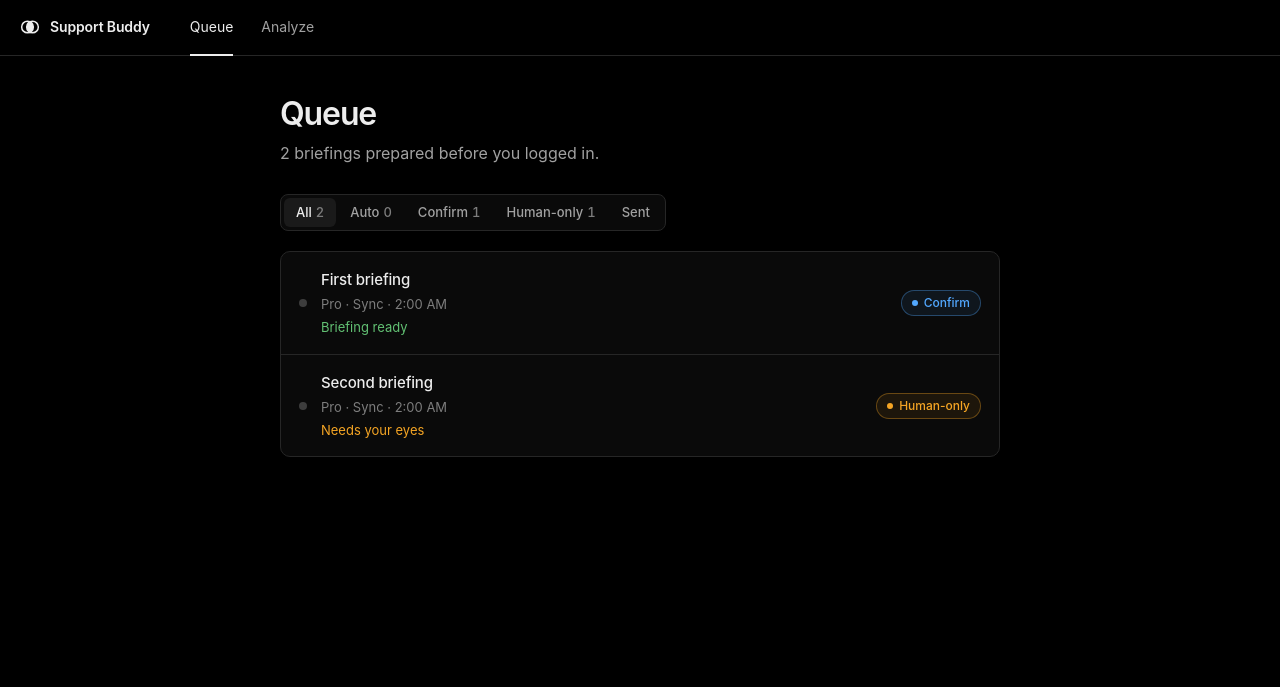
Test: App › opens a briefing and returns to the queue
Click the button with aria-label "open briefing: second briefing" at coordinates (377, 382), box [281, 355, 999, 456]
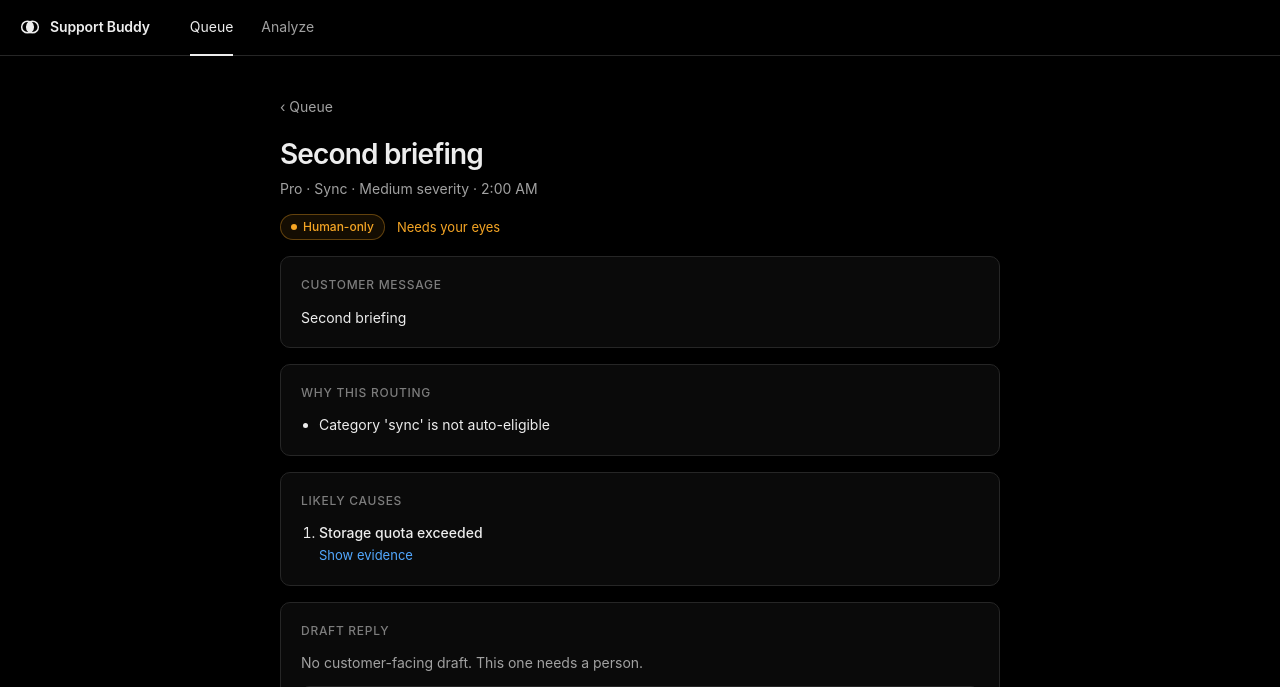
Expected: the text "No customer-facing draft. This one needs a person." is shown, [301, 654, 643, 671]
Click the button "‹ Queue" at coordinates (306, 107), box [280, 96, 333, 118]
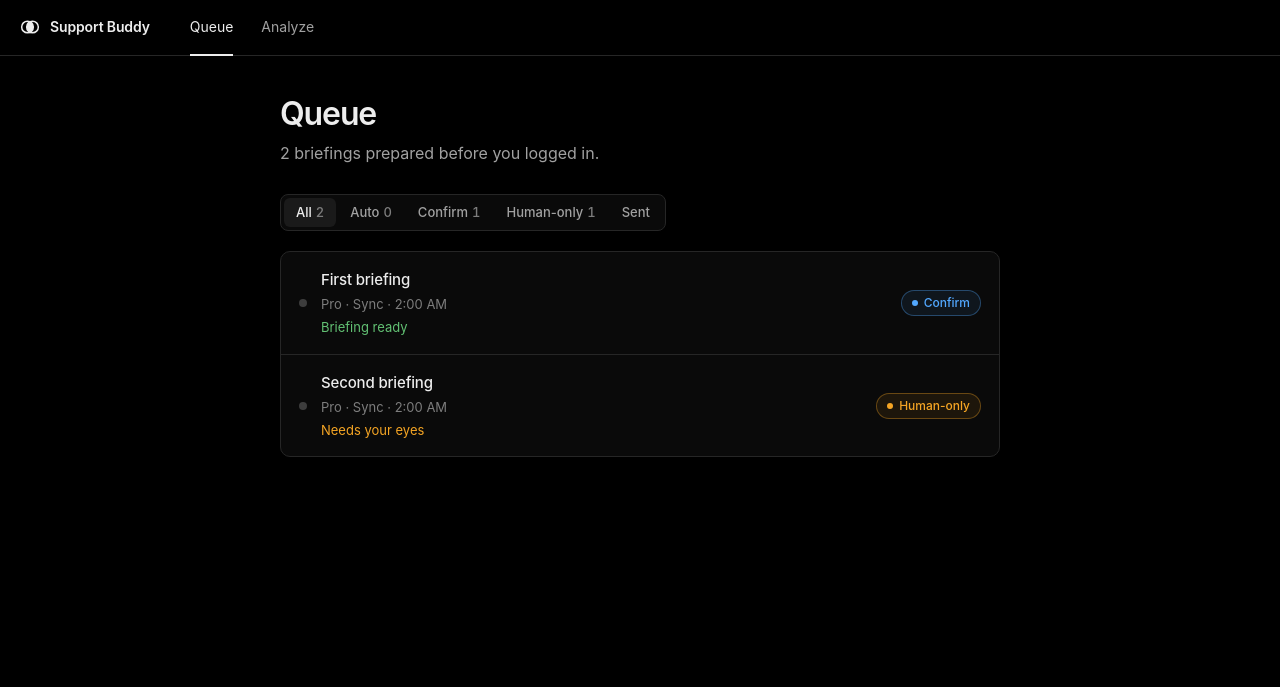
Expected: the heading "First briefing" is shown, [321, 270, 410, 289]
